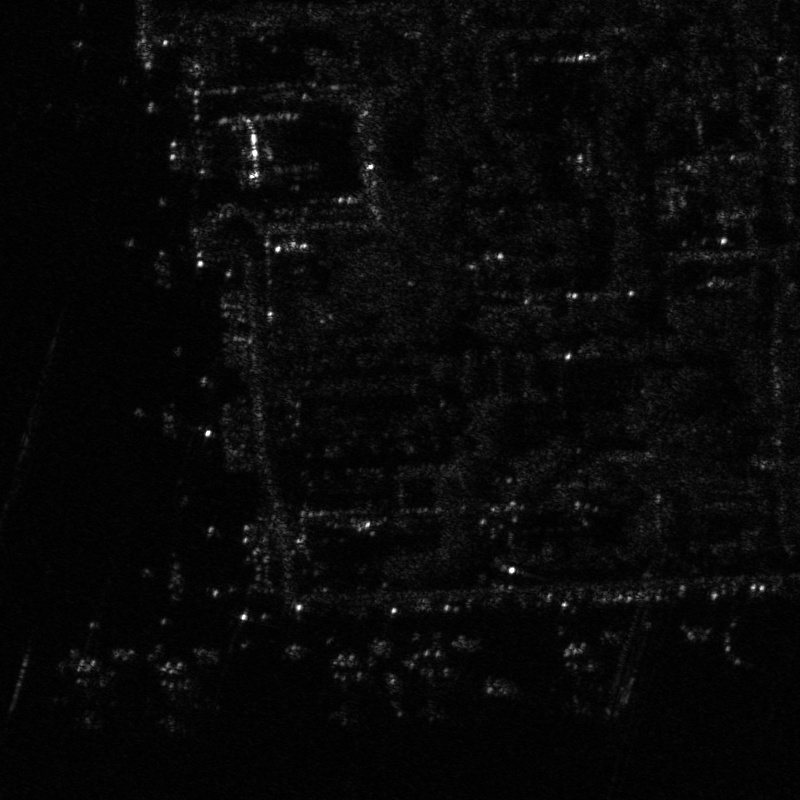A320/321: (43, 646, 124, 729)
ARJ21: (543, 637, 622, 717)
Boeing737: (132, 657, 224, 739), (314, 646, 378, 725)
other: (393, 644, 472, 724)
